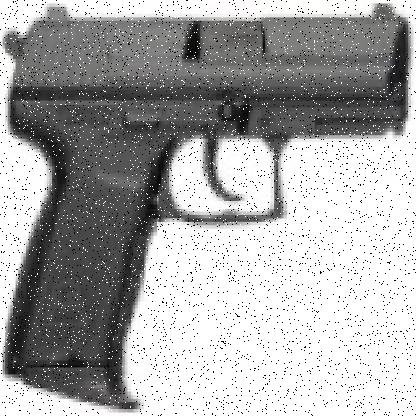pistol: (3, 3, 403, 398)
